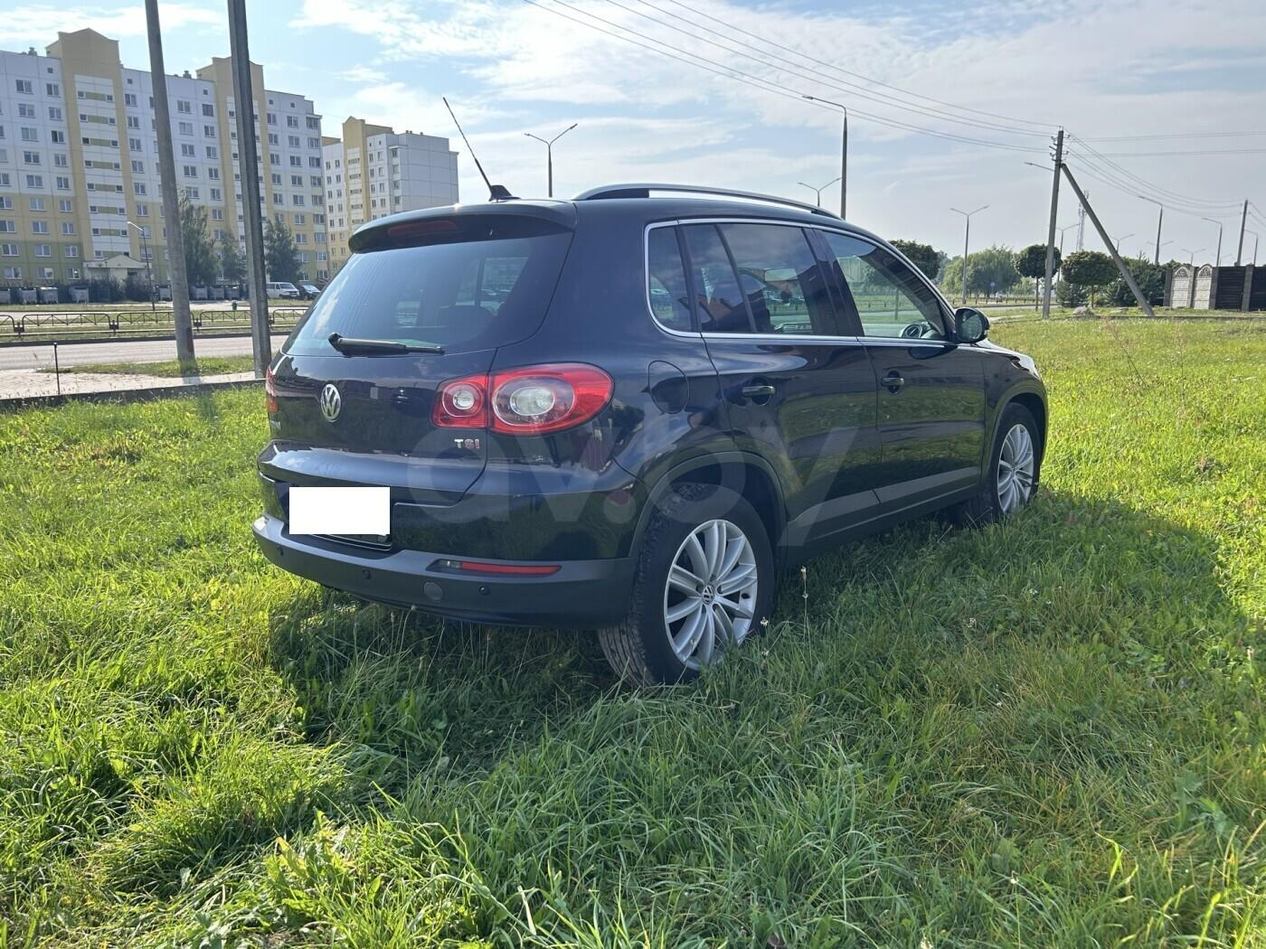Tiguan_2007-2011: (247, 190, 1050, 679)
